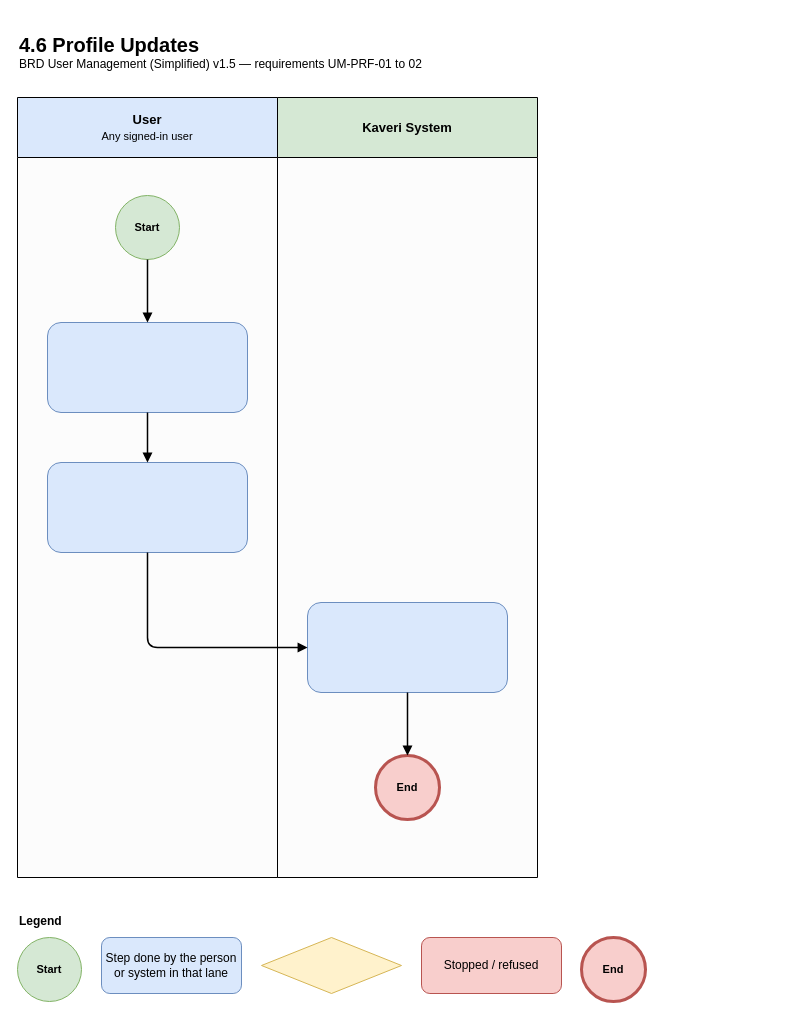
Some shapes in this 795 by 1020 pixel diagram are drawn without their labels. The centre of each missing label's shape, as x and y in pixels:
"1. Sign in and open My Profile" belongs at [147,367].
"2. Upload a photo, or update address and other contact numbers UM-PRF-01, 02" belongs at [147,507].
"3. Save the profile details" belongs at [407,647].
"Check / choice" belongs at [331,965].
